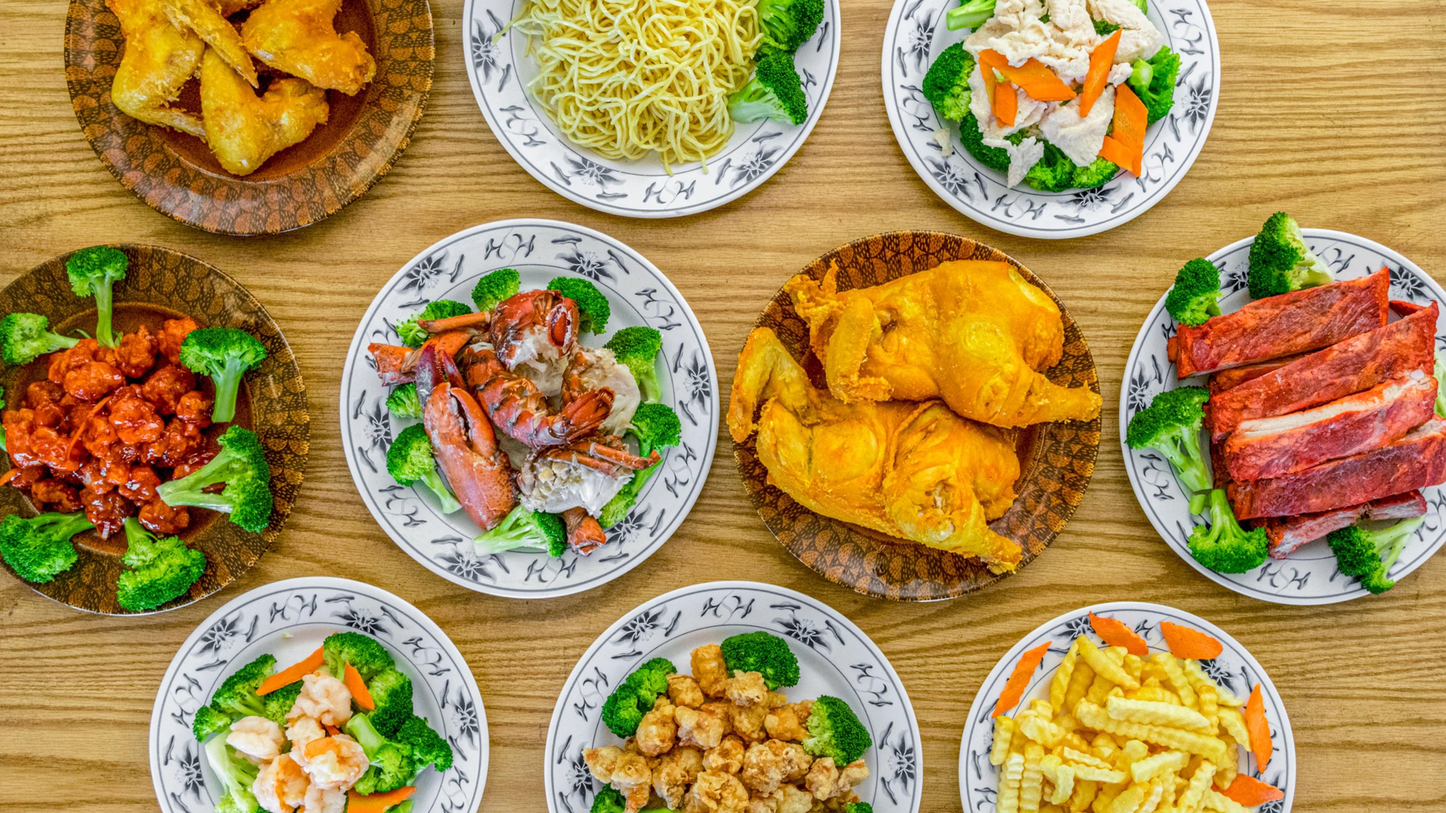Braised Crucian Carp: (338, 216, 715, 599), (724, 229, 1095, 603), (1116, 227, 1446, 604), (0, 242, 309, 608), (58, 1, 427, 236), (535, 588, 886, 810), (891, 0, 1215, 233), (483, 1, 828, 216), (149, 593, 485, 813), (963, 606, 1290, 813)
